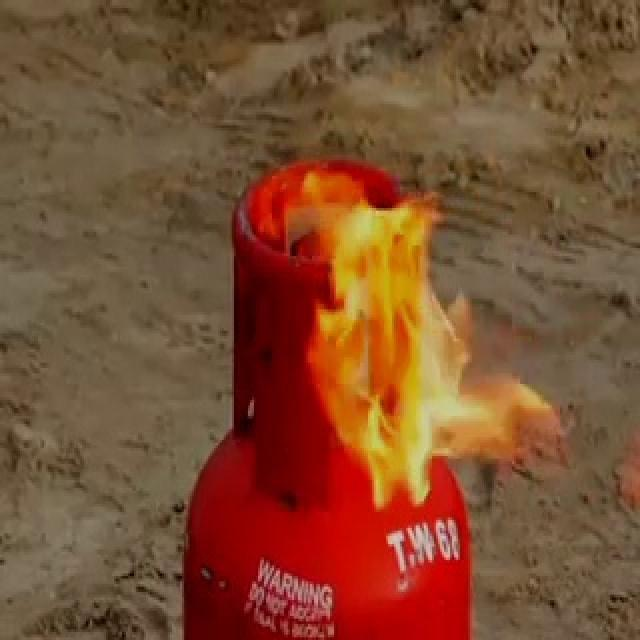Fire: (295, 158, 586, 494)
